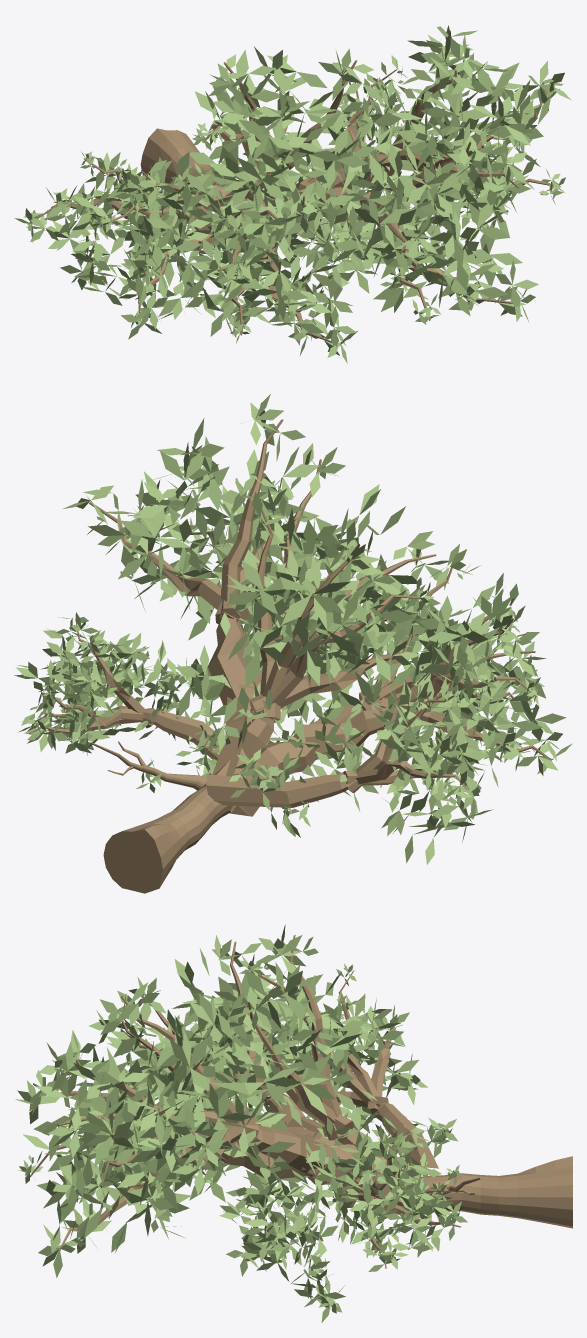
Rendered from TREE.glb.
3 views of the same model, one above another, from view 1: azimuth 30°, elevation 25°; view 2: azimuth 150°, elevation 25°; view 3: azimuth 270°, elevation 25° (orthographic). The views are drawn at different scales.
Parts seen in each view (by area): view 1: _0; view 2: _0; view 3: _0.
Boxes of the visible parts, bbox=[...] form: _0: bbox=[14, 25, 571, 363]; _0: bbox=[14, 394, 572, 893]; _0: bbox=[15, 924, 572, 1322].
Size of the model in its own units: 4.09 by 2.29 by 4.
